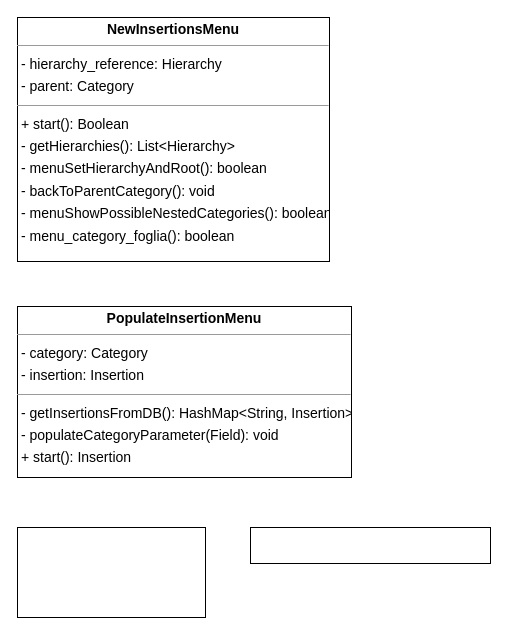
Some shapes in this 508 by 635 pixel diagram are drawn without their labels. Here are the shapes that lost their labels. From the top down, the box of each, then its label:
(250, 526, 490, 564): <<package>> package menu.insertions.offerts
(16, 526, 206, 618): RetireInsertionMenu - showMyInsertions(): void + start(): Boolean
